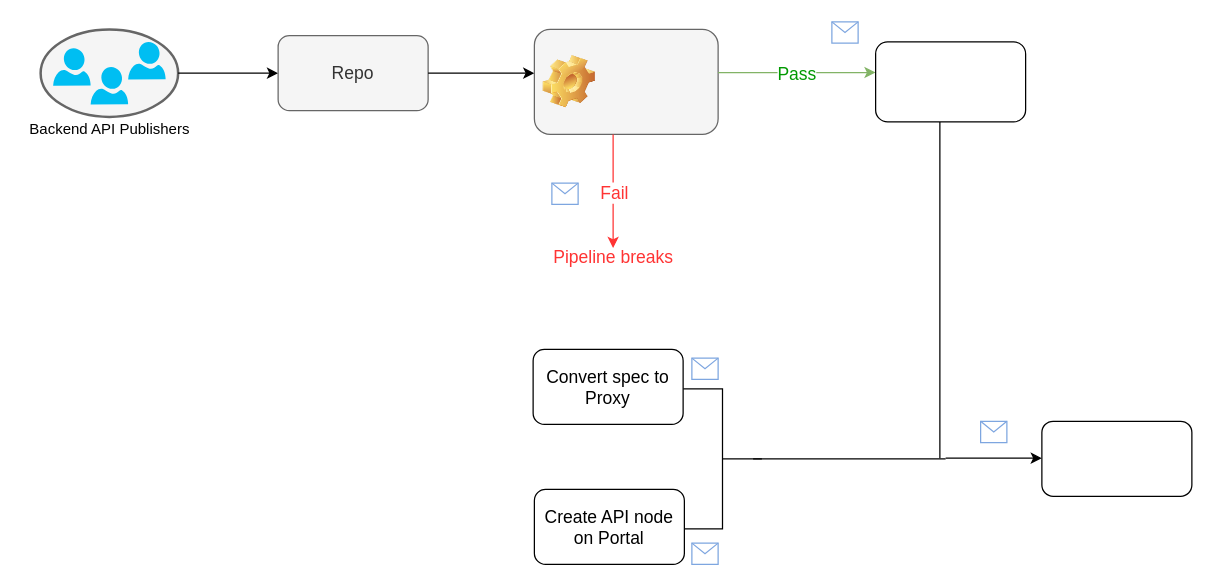
Image size: 1214x586. Some labels were removed from this diagram. The shapes that lost their labels are listed below. From the top down, each one's centre as x and y in pixels, then its label:
the point at 625,81: Swagger Spec Validation
the point at 1116,458: Import to SH
